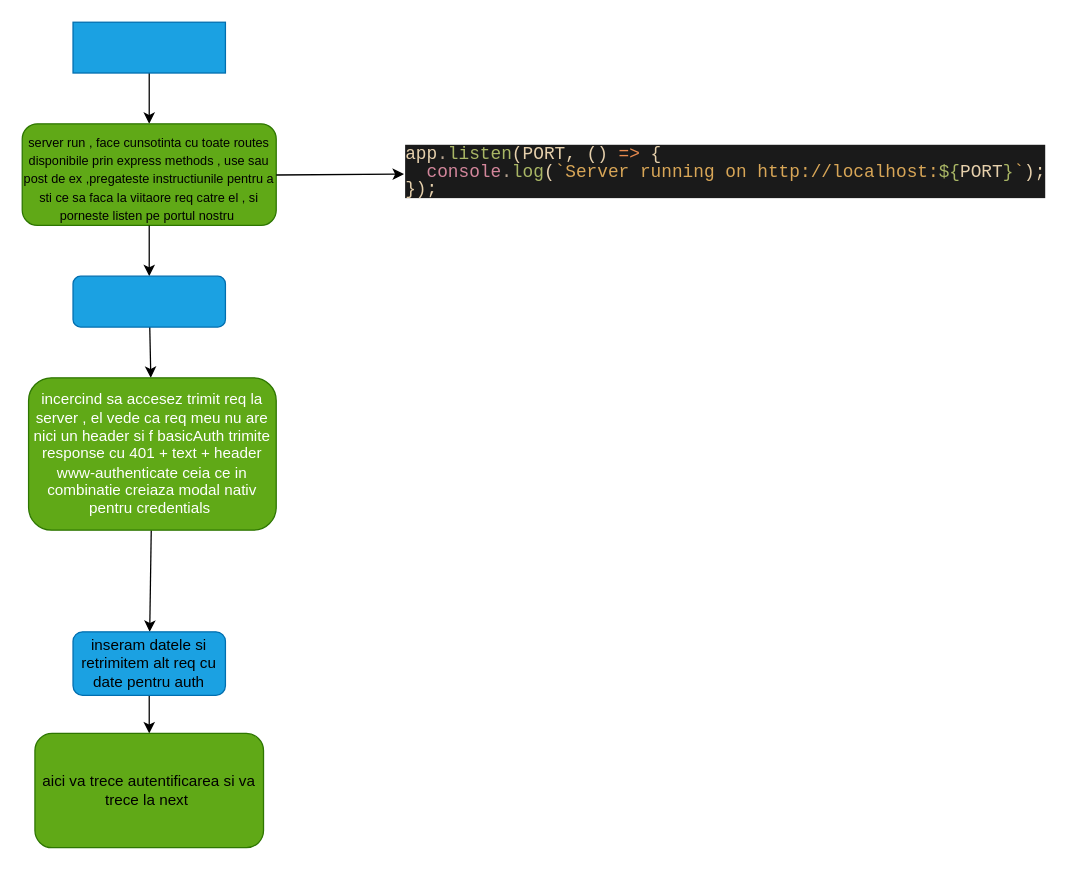
Some shapes in this 1068 by 870 pixel diagram are drawn without their labels. The centre of each missing label's shape, as x and y in pixels:
"localhost:PORT" belongs at (x=148, y=301).
"npm start" belongs at (x=148, y=47).
